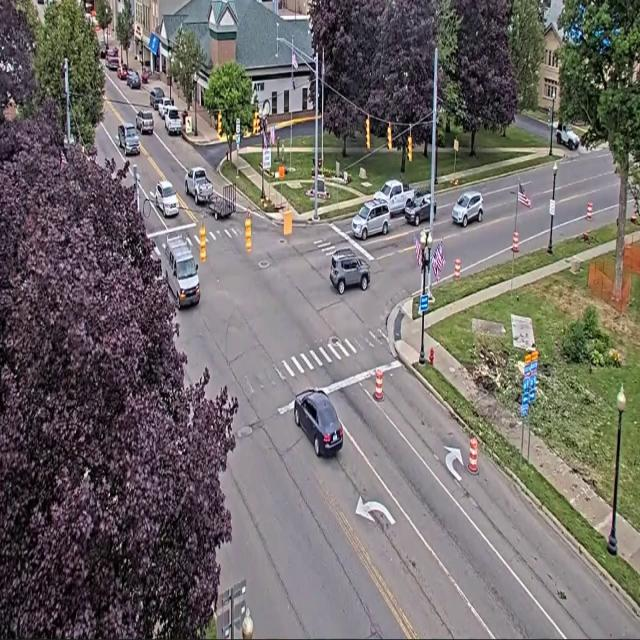car: (294, 389, 343, 456), (330, 250, 370, 295), (351, 200, 390, 240), (452, 190, 484, 228), (155, 181, 178, 217), (118, 123, 139, 156), (136, 109, 153, 134), (157, 96, 173, 119), (150, 88, 164, 111), (106, 52, 119, 71), (127, 71, 141, 88), (117, 63, 129, 80), (99, 41, 107, 59), (141, 67, 150, 83), (107, 47, 118, 56), (434, 199, 436, 215)
traffic signal: (199, 224, 206, 263), (245, 212, 251, 252), (253, 111, 259, 135), (366, 117, 370, 150), (387, 124, 392, 150), (217, 112, 222, 135), (408, 136, 412, 162), (548, 107, 552, 125)
truck: (162, 235, 199, 309), (374, 180, 414, 216), (185, 167, 212, 204), (556, 122, 579, 150), (164, 107, 181, 135)
